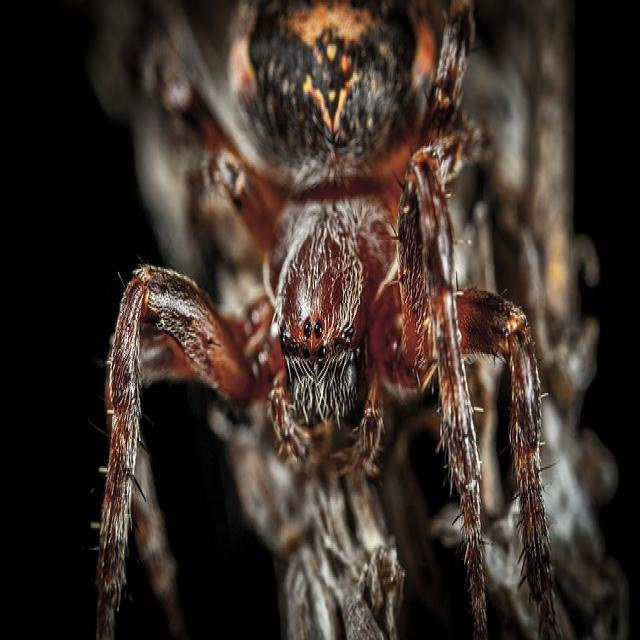spyder: (98, 0, 554, 637)
